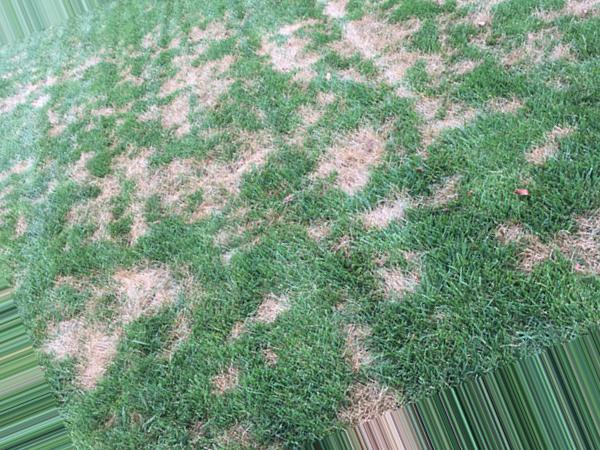patch: (324, 131, 408, 201), (69, 276, 156, 330), (177, 61, 251, 106), (113, 160, 183, 205), (207, 146, 257, 196), (73, 342, 146, 376), (277, 28, 318, 84), (337, 29, 425, 55), (336, 315, 377, 367), (131, 93, 174, 131), (253, 293, 292, 322), (384, 256, 418, 283), (446, 178, 483, 201), (275, 121, 301, 150)
